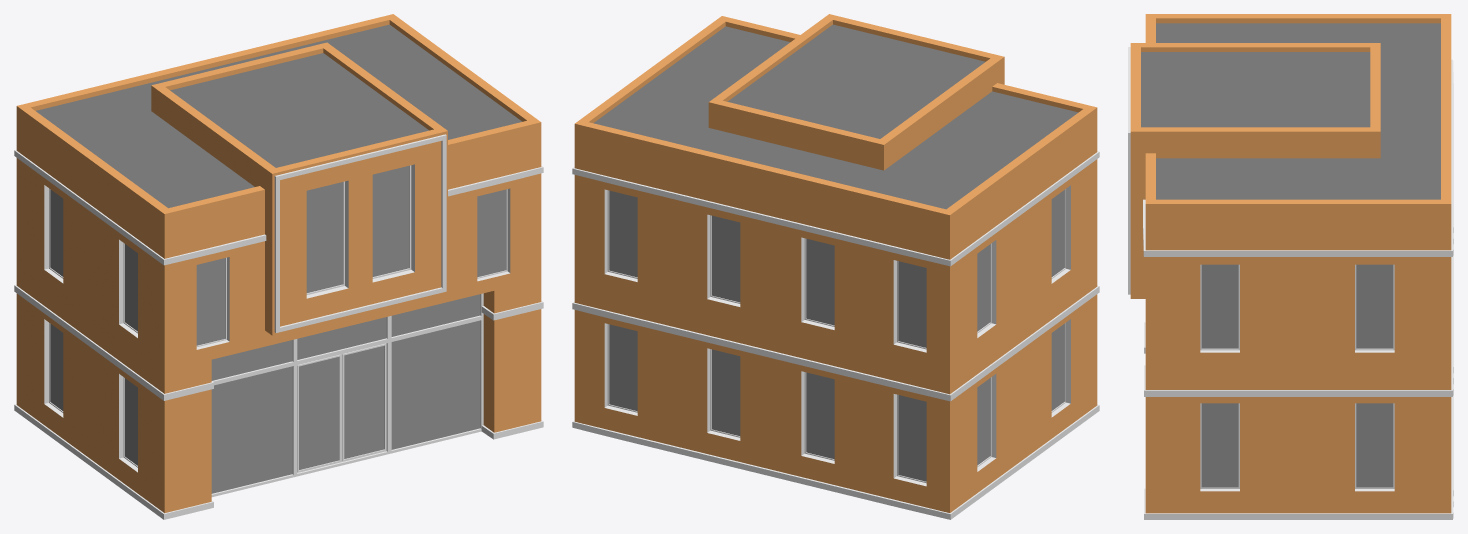
File: SM_House_07_02.FBX
3 renders of one model, left to right at view 1: azimuth 30°, elevation 25°; view 2: azimuth 150°, elevation 25°; view 3: azimuth 270°, elevation 25°, orthographic. The views are drawn at different scales.
Visible parts, largest first — view 1: SM_House_07_02; view 2: SM_House_07_02; view 3: SM_House_07_02.
Part boxes in pixels (x1,y1,x2,y2): SM_House_07_02: [14, 14, 543, 519]; SM_House_07_02: [572, 14, 1099, 519]; SM_House_07_02: [1128, 14, 1453, 519].
Bounding box in the file's own units: 8.06 × 6.61 × 5.79.
Materials: 1 (1 with a texture image).
